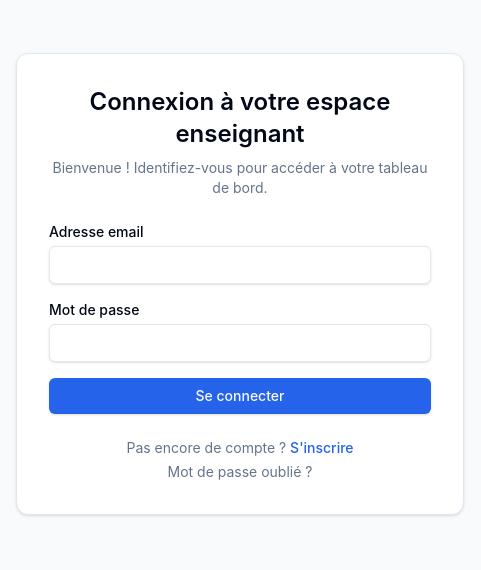
LoginPage › affiche un message générique sur erreur réseau (fetch rejette)
Type "a@b.fr" into the field labelled "Adresse email" at (240, 265), box [49,246,431,284]
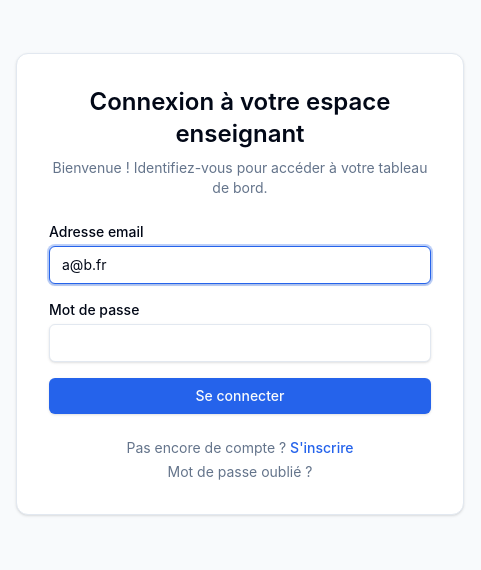
Type "motdepasse" into the password field labelled "Mot de passe" at (240, 343), box [49,324,431,362]
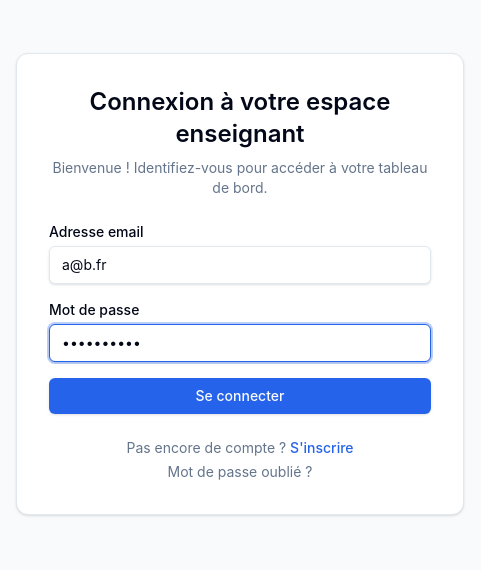
Click the button "Se connecter" at (240, 396), box [49,378,431,414]
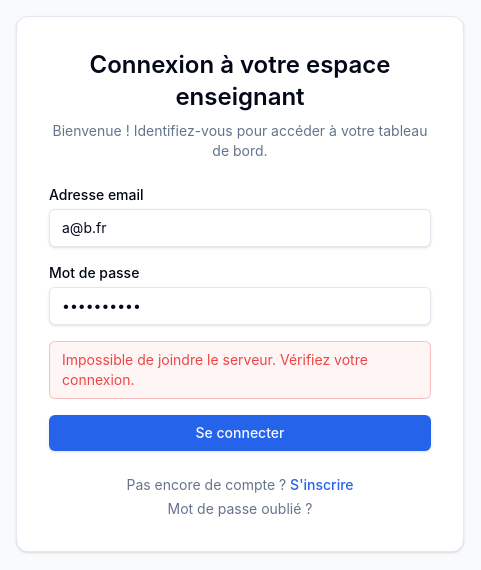
Expected: the text "Impossible de joindre le serveur. Vérifiez votre connexion." is shown, [49,341,431,399]
